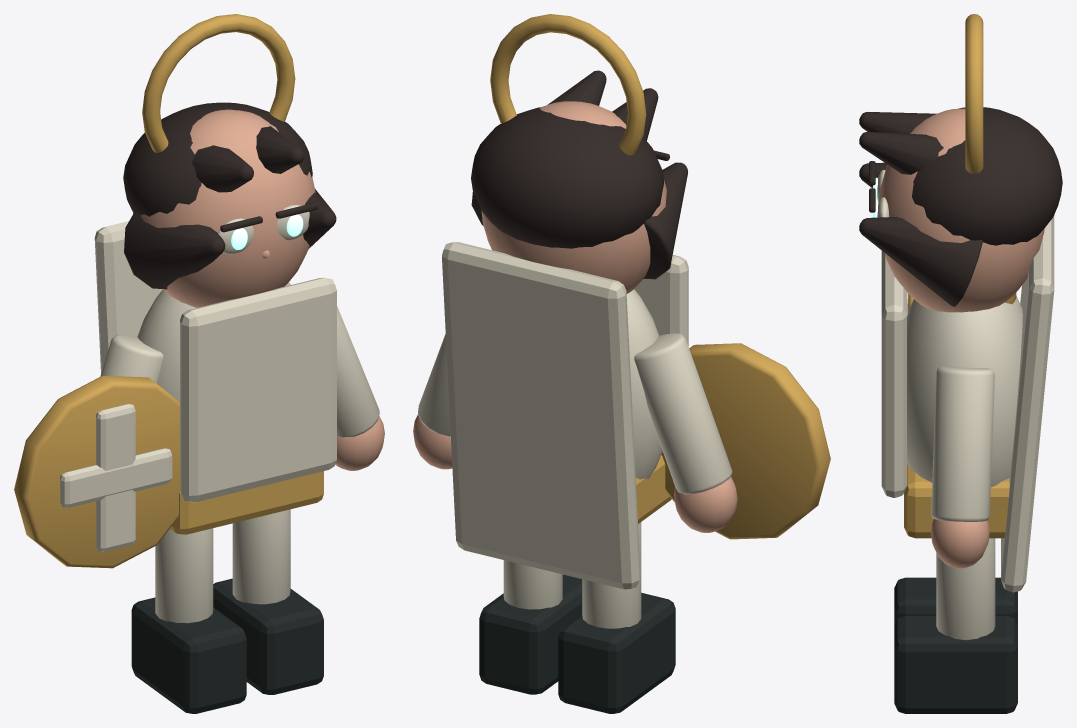
The model's file is hero-paladin.glb.
3 views of the same model, side by side, from view 1: azimuth 30°, elevation 25°; view 2: azimuth 150°, elevation 25°; view 3: azimuth 270°, elevation 25° (orthographic).
Parts seen in each view (by area): view 1: paladin_Breastplate, paladin_Shield, paladin_Head, paladin_Boot, paladin_Boot.001, paladin_HairCap, paladin_Halo, paladin_Leg, paladin_Leg.001, paladin_HairLock, paladin_Cape, paladin_Waist (+9 smaller); view 2: paladin_Cape, paladin_HairCap, paladin_Shield, paladin_Boot, paladin_ArmL, paladin_Boot.001, paladin_Head, paladin_Halo, paladin_Torso, paladin_Breastplate, paladin_HairLock, paladin_Leg (+7 smaller); view 3: paladin_HairCap, paladin_Torso, paladin_Boot.001, paladin_Cape, paladin_ArmR, paladin_Head, paladin_Breastplate, paladin_HairLock.001, paladin_Leg.001, paladin_Halo, paladin_Waist, paladin_HairLock.003 (+3 smaller).
Boxes of the visible parts, <box> form: paladin_Breastplate: <box>180,277,336,502</box>; paladin_Shield: <box>14,375,179,568</box>; paladin_Head: <box>133,109,315,307</box>; paladin_Boot: <box>131,597,246,713</box>; paladin_Boot.001: <box>213,578,323,694</box>; paladin_HairCap: <box>123,102,312,216</box>; paladin_Halo: <box>142,14,295,152</box>; paladin_Leg: <box>155,528,213,623</box>; paladin_Leg.001: <box>232,509,290,604</box>; paladin_HairLock: <box>124,211,225,289</box>; paladin_Cape: <box>94,221,162,373</box>; paladin_Waist: <box>170,471,323,534</box>; paladin_Cape: <box>442,242,640,589</box>; paladin_HairCap: <box>471,107,663,248</box>; paladin_Shield: <box>661,343,830,539</box>; paladin_Boot: <box>558,592,675,713</box>; paladin_ArmL: <box>634,333,732,494</box>; paladin_Boot.001: <box>479,574,582,694</box>; paladin_Head: <box>481,101,666,293</box>; paladin_Halo: <box>490,14,646,155</box>; paladin_Torso: <box>626,289,662,479</box>; paladin_Breastplate: <box>634,255,688,345</box>; paladin_HairLock: <box>643,162,687,279</box>; paladin_Leg: <box>582,522,641,628</box>; paladin_HairCap: <box>912,107,1062,245</box>; paladin_Torso: <box>907,296,1022,487</box>; paladin_Boot.001: <box>894,615,1017,713</box>; paladin_Cape: <box>1001,215,1054,592</box>; paladin_ArmR: <box>931,366,994,521</box>; paladin_Head: <box>878,108,1044,312</box>; paladin_Breastplate: <box>881,251,906,497</box>; paladin_HairLock.001: <box>859,217,982,306</box>; paladin_Leg.001: <box>936,538,995,640</box>; paladin_Halo: <box>965,14,983,173</box>; paladin_Waist: <box>904,464,1009,538</box>; paladin_HairLock.003: <box>859,131,943,174</box>.
Size of the model in its own units: 1.58 by 2.6 by 0.725.
